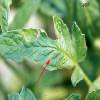Tomato leaf bacterial spot: (1, 15, 88, 72)
